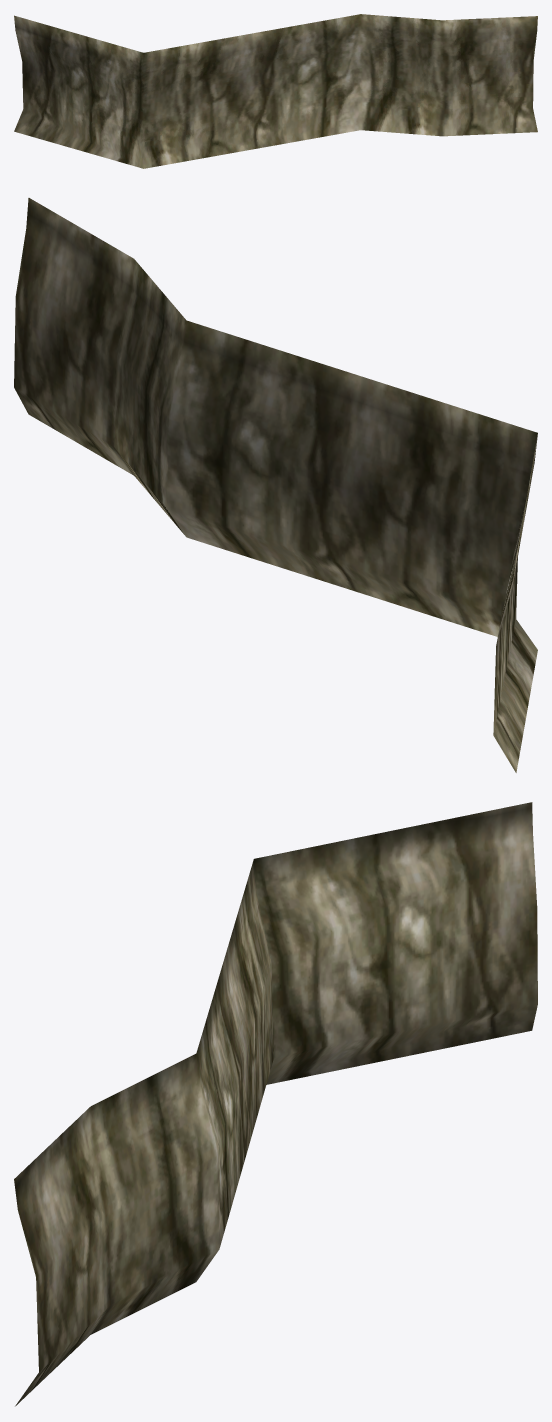
File: CB_NEWPLAYSURFACE_CB_PLAYSURFACE118.fbx
The picture shows the model from 3 angles, top to bottom: view 1: azimuth 30°, elevation 25°; view 2: azimuth 150°, elevation 25°; view 3: azimuth 270°, elevation 25°; orthographic projection. The views are drawn at different scales.
Visible parts, largest first — view 1: CB_NEWPLAYSURFACE_CB_PLAYSURFACE118; view 2: CB_NEWPLAYSURFACE_CB_PLAYSURFACE118; view 3: CB_NEWPLAYSURFACE_CB_PLAYSURFACE118.
Boxes of the visible parts, <box> form: CB_NEWPLAYSURFACE_CB_PLAYSURFACE118: <box>14,14,537,168</box>; CB_NEWPLAYSURFACE_CB_PLAYSURFACE118: <box>14,198,537,772</box>; CB_NEWPLAYSURFACE_CB_PLAYSURFACE118: <box>14,802,537,1406</box>.
Bounding box in the file's own units: 142029 × 40000 × 83092.
1 material, 1 textured.
